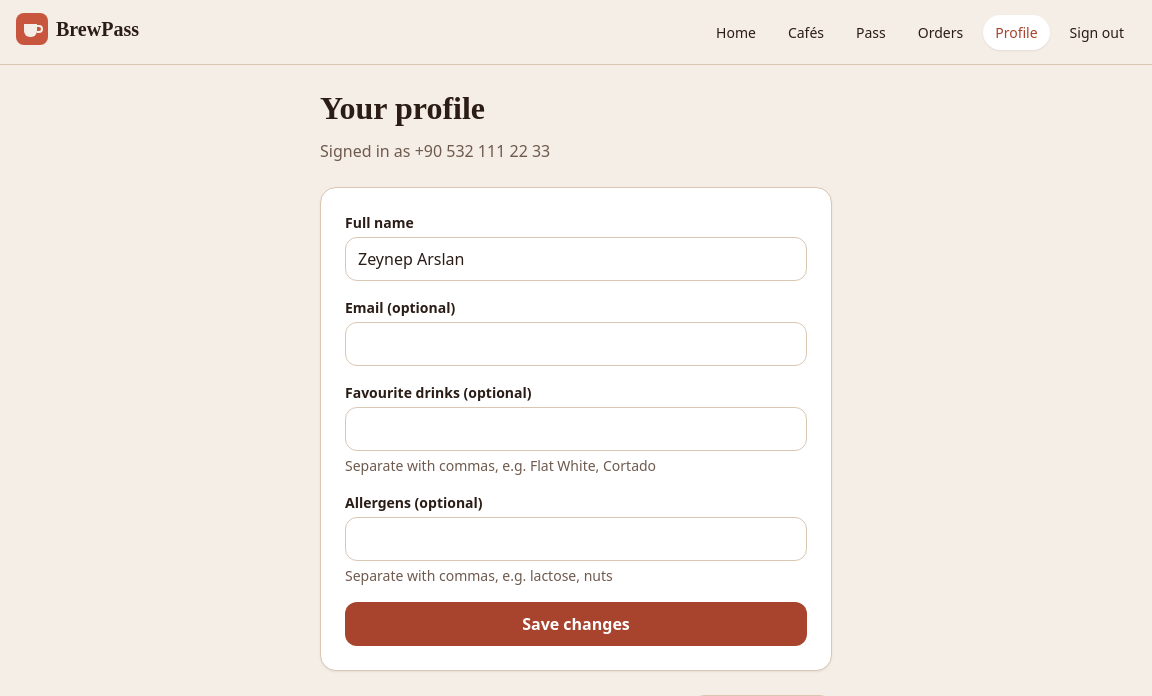
profile page › shows field errors from the API next to the field
Type "not-an-email" into the field labelled "Email (optional)" at (576, 344), box top-left (345, 322), bottom-right (807, 366)
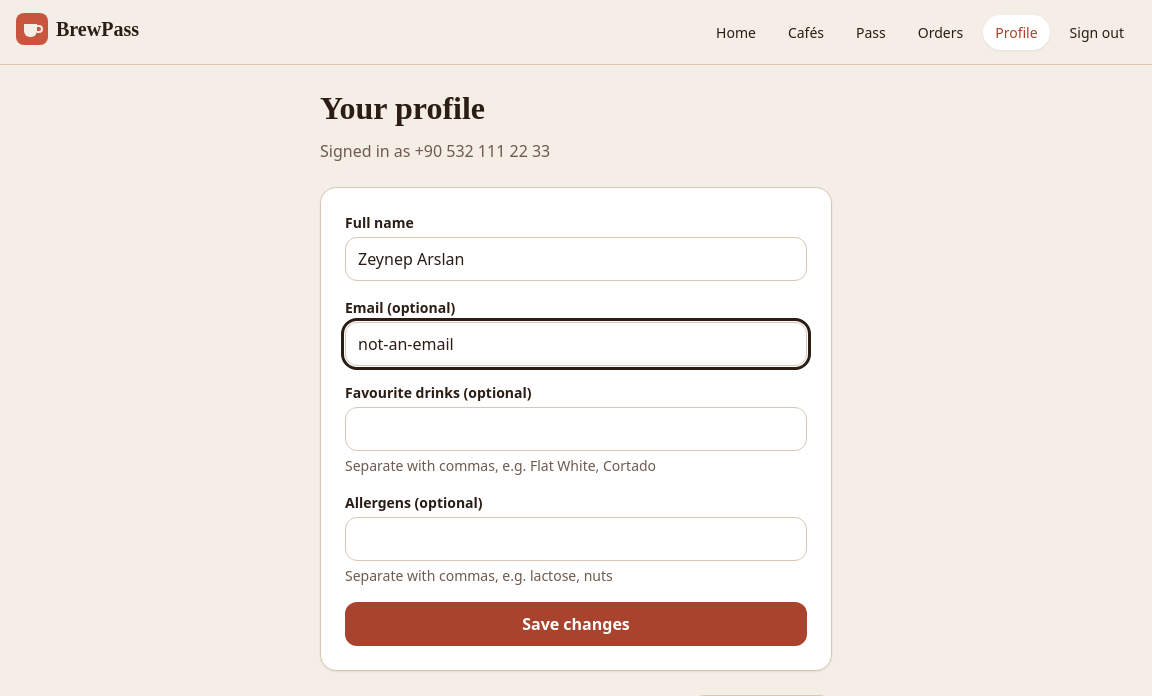
Click the button "Save changes" at (576, 624), box top-left (345, 602), bottom-right (807, 646)
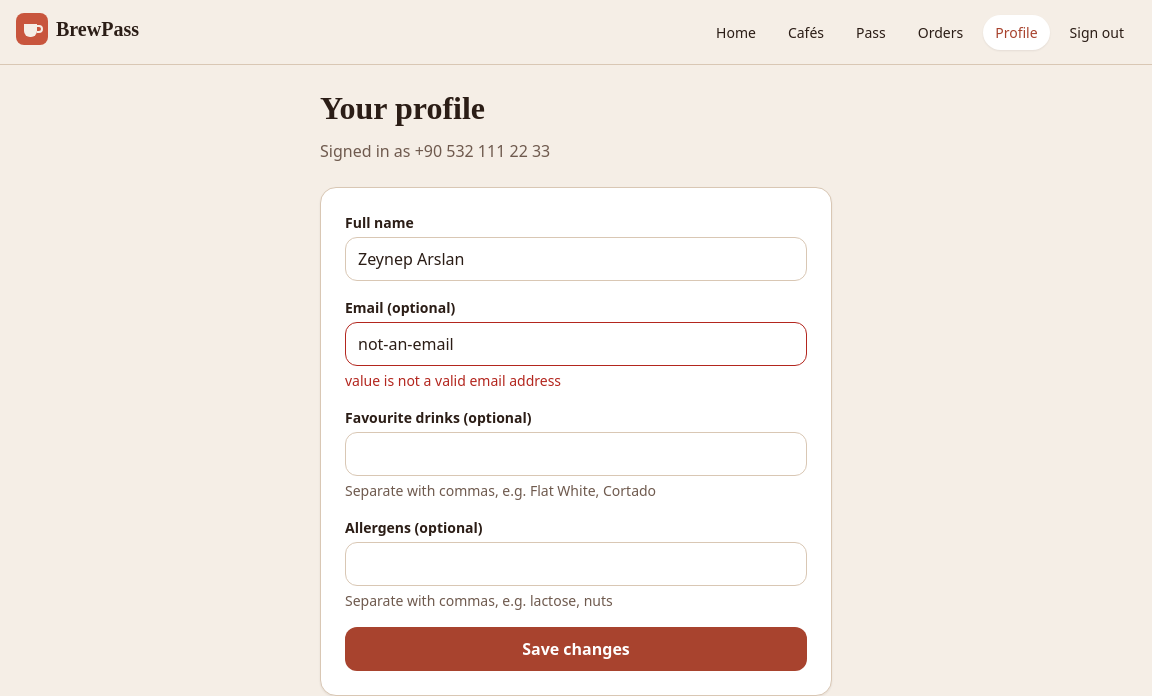
Check: the message shows "not a valid email", box top-left (345, 371), bottom-right (561, 390)
